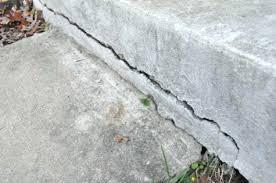crack: (39, 0, 239, 160)
